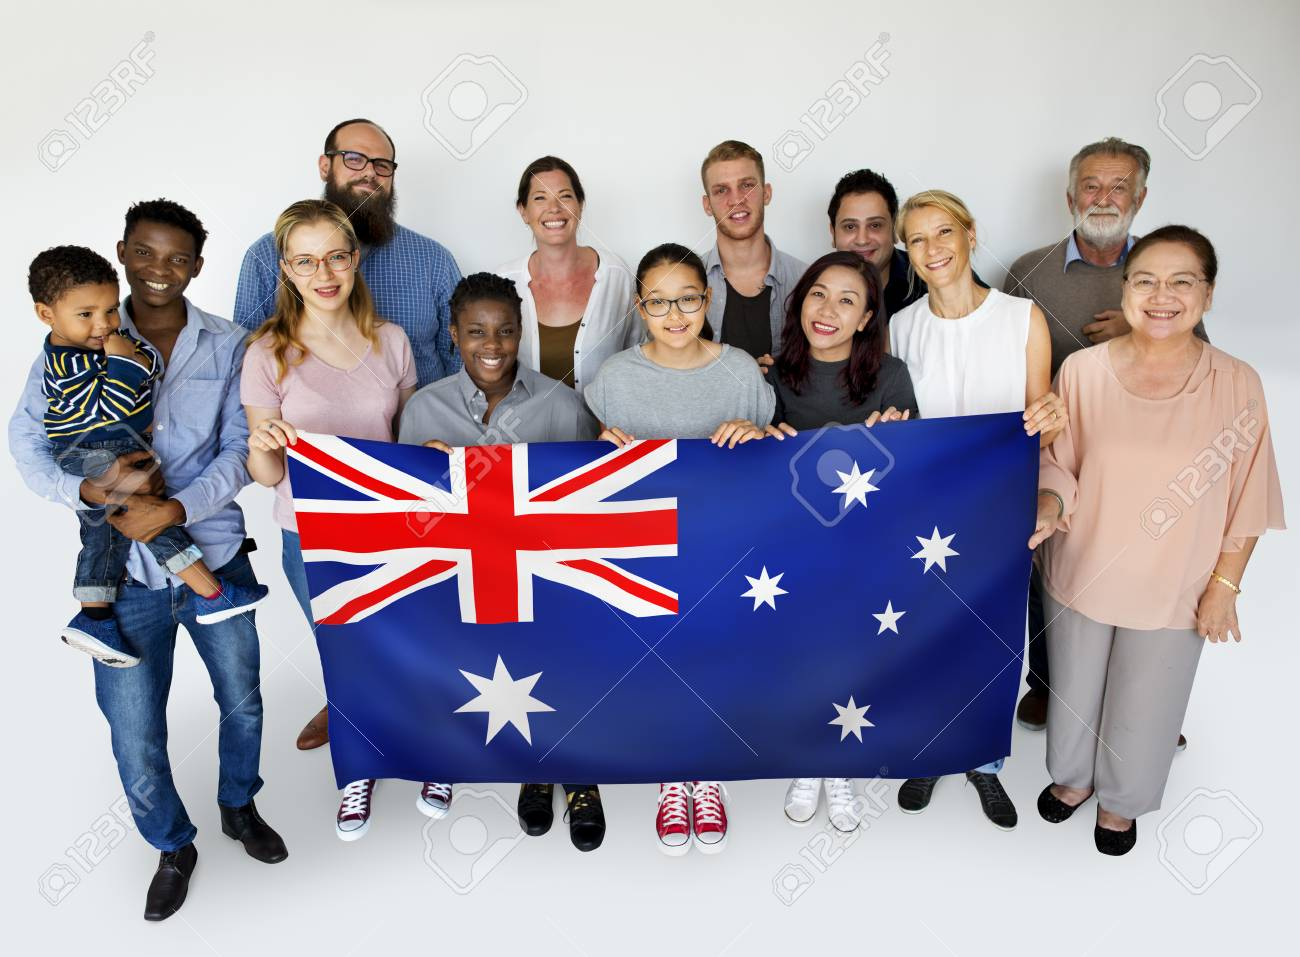person: (1053, 242, 1268, 530), (595, 233, 770, 429), (896, 190, 1052, 378), (480, 175, 644, 332), (1025, 108, 1150, 305), (249, 208, 398, 369), (122, 197, 258, 357), (437, 276, 559, 438), (682, 163, 808, 317), (770, 259, 899, 409)
